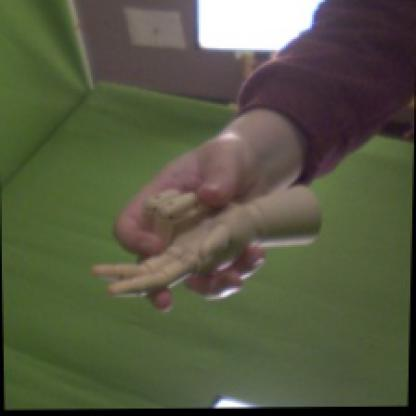Hand: (113, 134, 268, 310)
